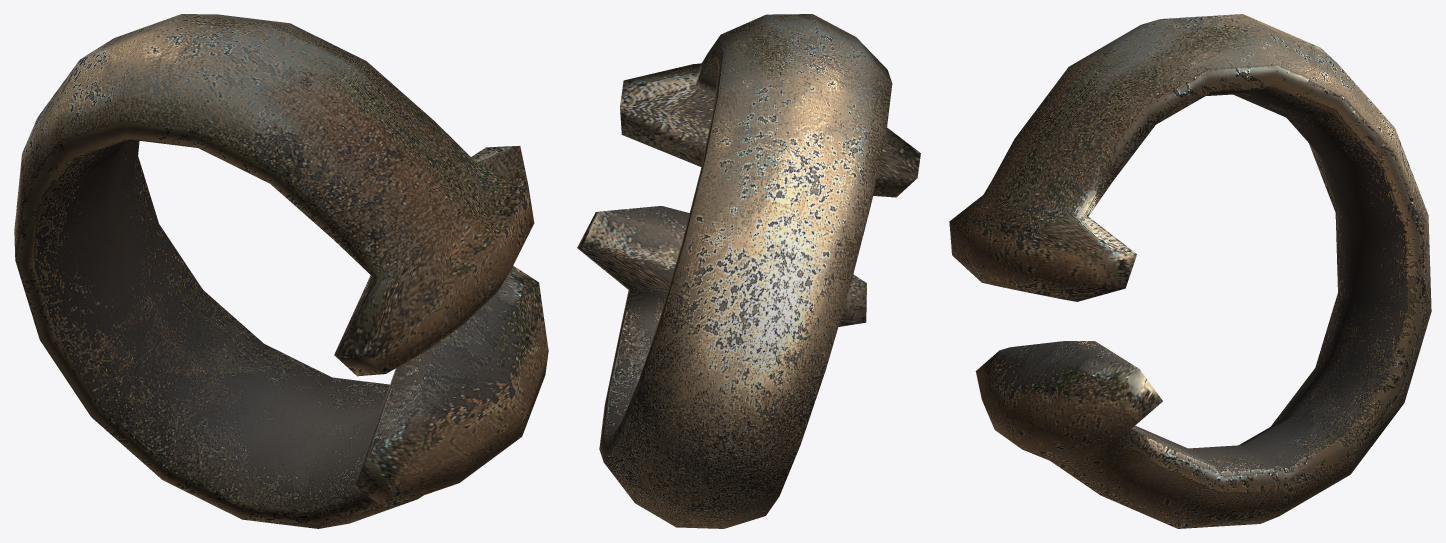
Rendered from sm_yun_accessories_03.gltf.
The picture shows the model from 3 angles, left to right: view 1: azimuth 30°, elevation 25°; view 2: azimuth 150°, elevation 25°; view 3: azimuth 270°, elevation 25°; orthographic projection. The views are drawn at different scales.
Visible parts, largest first — view 1: sm_yun_accessories_03; view 2: sm_yun_accessories_03; view 3: sm_yun_accessories_03.
Part boxes in pixels (x1,y1,x2,y2): sm_yun_accessories_03: (14,14,548,528); sm_yun_accessories_03: (577,14,920,528); sm_yun_accessories_03: (949,14,1431,528).
Size of the model in its own units: 4.04 by 4.92 by 4.67.
Materials: 1 (1 with a texture image).
